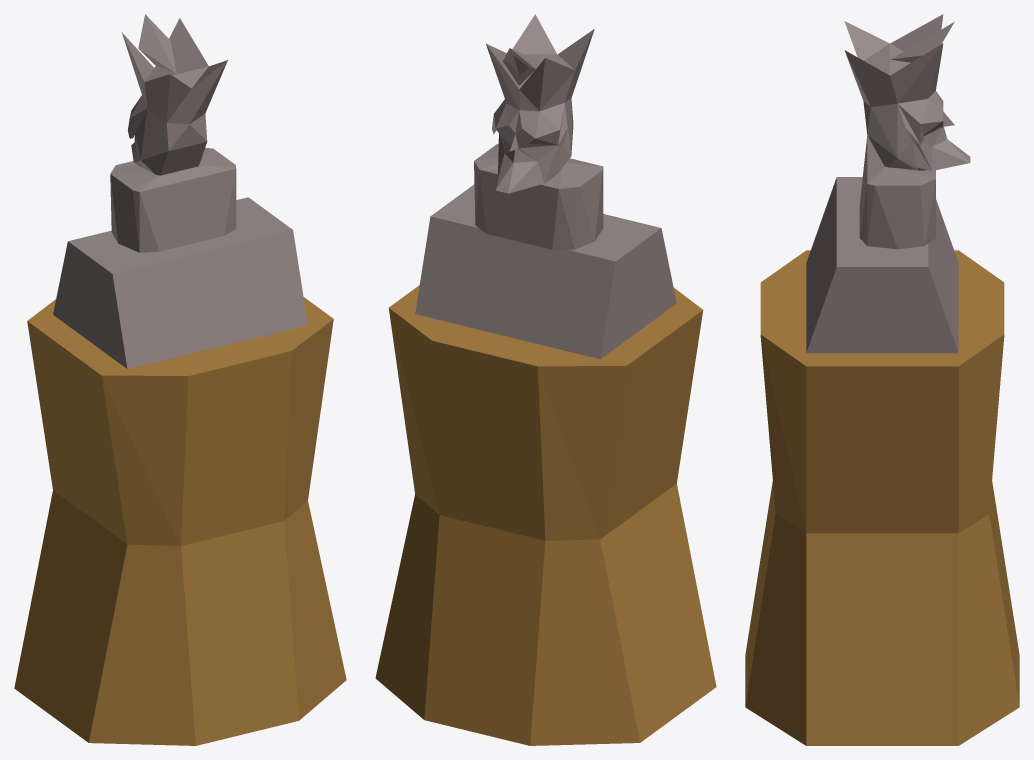
The model's file is obj_gnome_statue_4_0.obj.
The picture shows the model from 3 angles, left to right: view 1: azimuth 30°, elevation 25°; view 2: azimuth 150°, elevation 25°; view 3: azimuth 270°, elevation 25°; orthographic projection. The views are drawn at different scales.
Size of the model in its own units: 0.625 by 1.49 by 0.5625.
